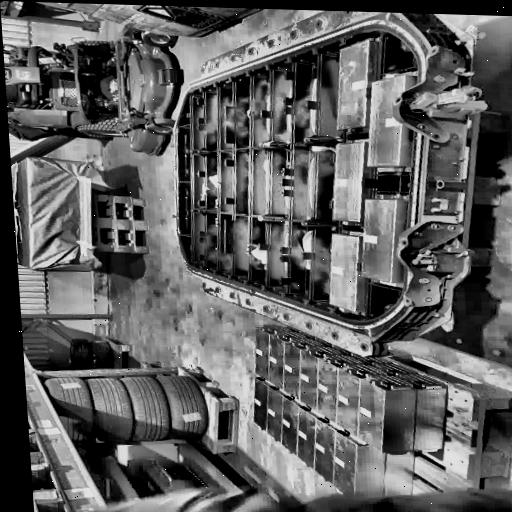b_casing: (171, 10, 434, 359)
battery_module: (252, 324, 449, 501), (367, 74, 406, 166), (361, 198, 399, 282), (336, 39, 370, 129), (333, 141, 364, 222), (330, 233, 358, 311)
